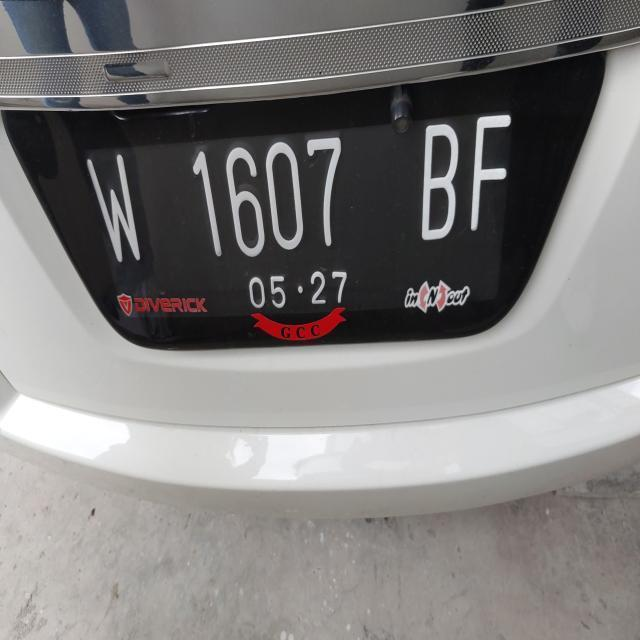0: (258, 128, 314, 266)
1: (180, 136, 230, 290)
6: (219, 122, 270, 270)
7: (300, 120, 354, 258)
B: (414, 103, 463, 257)
F: (461, 91, 516, 249)
W: (75, 141, 158, 277)
